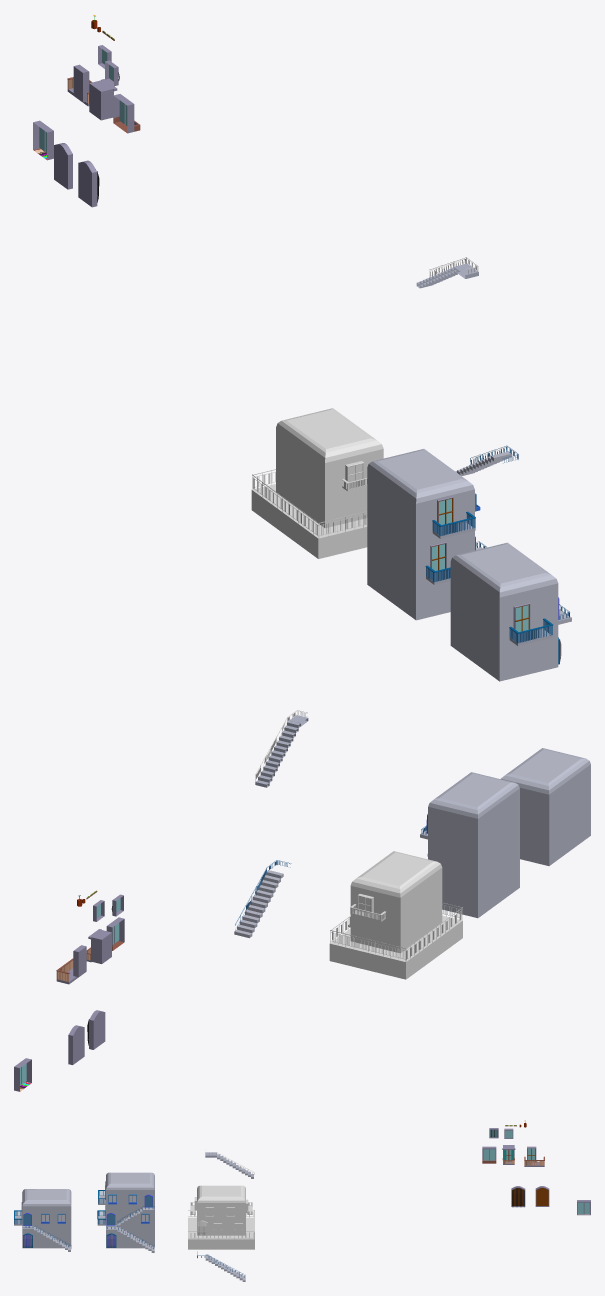
Rendered from bina.fbx.
3 renders of one model, top to bottom at view 1: azimuth 30°, elevation 25°; view 2: azimuth 150°, elevation 25°; view 3: azimuth 270°, elevation 25°, orthographic. The views are drawn at different scales.
Parts seen in each view (by area): view 1: Fence.002, Fence.003, Fence.001, balkon_pen, door1; view 2: Fence.003, Fence.002, Fence.001, Fence.004, Cube.001, balkon_pen, door1, door, pen2.005; view 3: Fence.002, Fence.003, Fence.001, Fence.004, door1, door, Cube.001, pen2, balkon_pen.
Boxes of the visible parts, <box> form: Fence.002: <box>367,449,486,620</box>; Fence.003: <box>251,408,383,558</box>; Fence.001: <box>450,542,571,681</box>; balkon_pen: <box>89,79,117,120</box>; door1: <box>78,160,99,207</box>; Fence.003: <box>329,851,462,979</box>; Fence.002: <box>420,772,519,918</box>; Fence.001: <box>501,748,590,865</box>; Fence.004: <box>234,860,291,938</box>; Cube.001: <box>255,715,308,787</box>; balkon_pen: <box>86,929,111,963</box>; door1: <box>87,1010,105,1049</box>; door: <box>68,1025,84,1064</box>; pen2.005: <box>14,1058,31,1091</box>; Fence.002: <box>97,1172,154,1252</box>; Fence.003: <box>188,1185,254,1249</box>; Fence.001: <box>14,1189,71,1251</box>; Fence.004: <box>197,1251,245,1281</box>; door1: <box>511,1186,525,1207</box>; door: <box>535,1186,549,1206</box>; Cube.001: <box>205,1152,253,1178</box>; pen2: <box>482,1146,496,1163</box>; balkon_pen: <box>502,1145,515,1164</box>.
Size of the model in its own units: 38.47 by 47.98 by 182.
